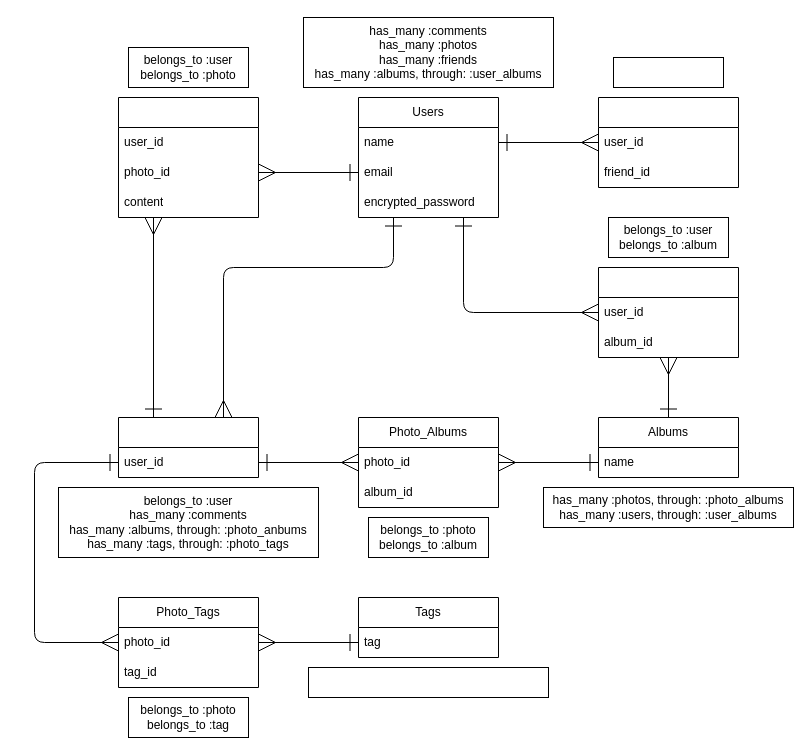
This 811x755 diagram has some shape labels left out. Each missing label, with the box of its shape:
belongs_to :user: (612, 56, 724, 88)
Comments: (118, 96, 258, 218)
Friends: (598, 96, 738, 188)
has_many :photos, through: :photo_tags: (308, 666, 548, 698)
Photos: (118, 416, 258, 478)
User_Albums: (598, 266, 738, 358)
